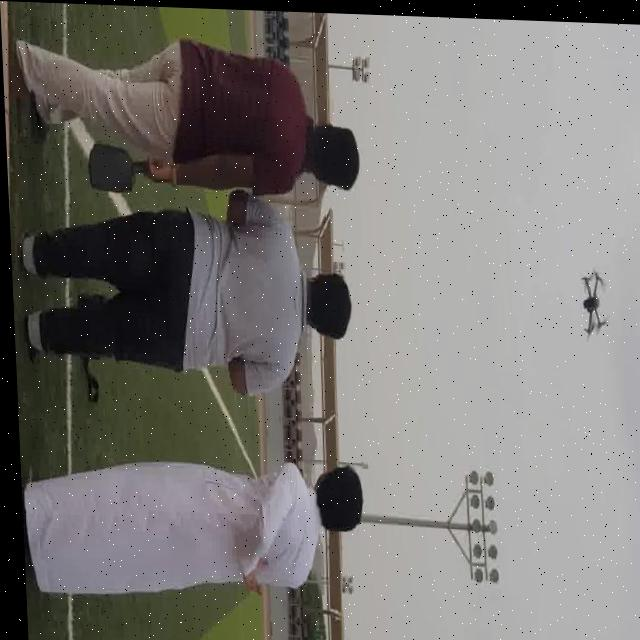drone: (574, 244, 607, 341)
